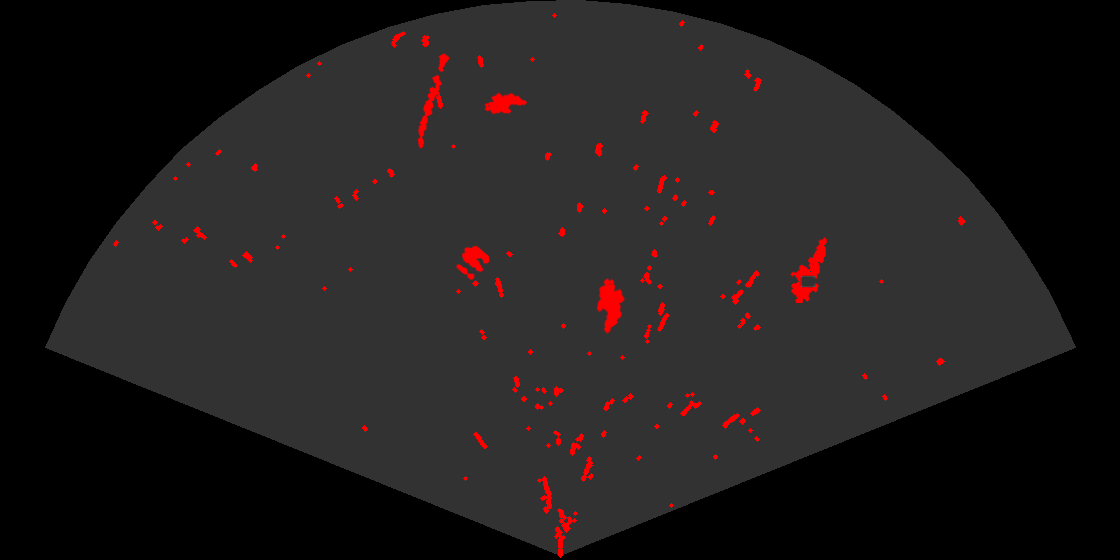AUV: (595, 276, 626, 335), (483, 91, 529, 116)
ball: (455, 244, 491, 281)
chain: (416, 51, 451, 150)
frogman: (789, 236, 828, 303)
